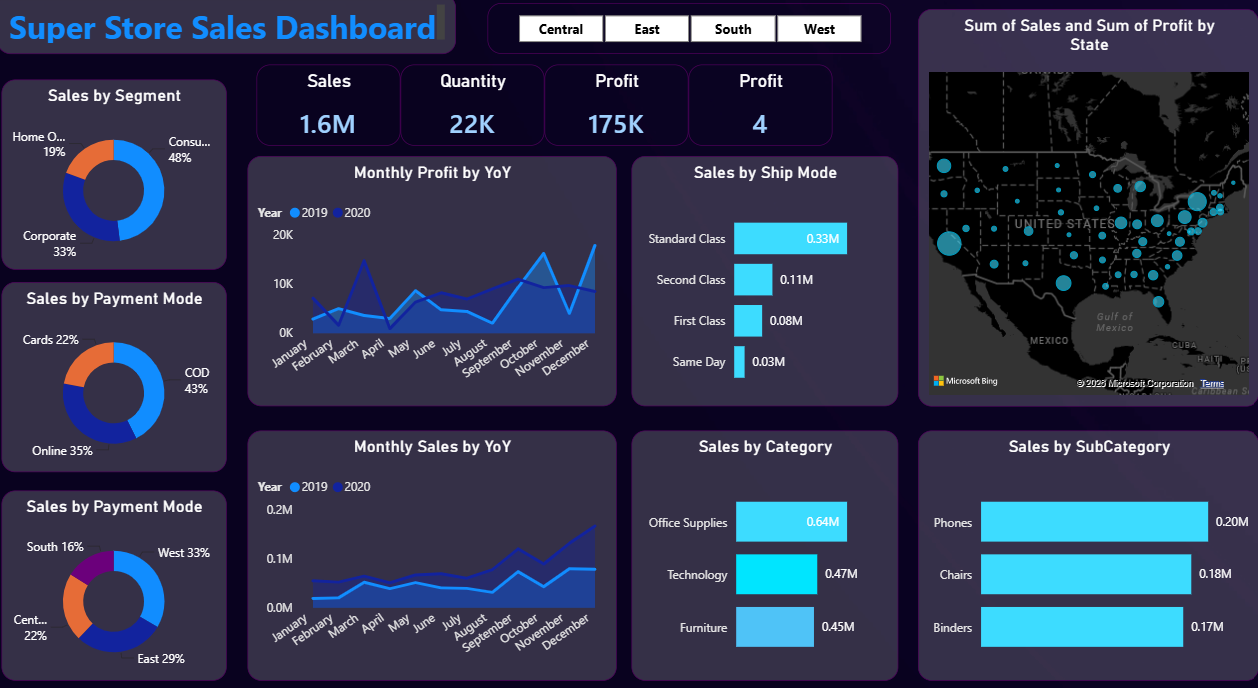

What the dashboard file says about the page in this screenshot:
{"tool":"powerbi","page":{"name":"Dashboard","canvas":[1280,720],"ordinal":0},"visuals":[{"type":"clusteredBarChart","title":"Sales by SubCategory","fields":{"Category":["SuperStore Sales DataSet.Sub-Category"],"Y":["Sum(SuperStore Sales DataSet.Sales)"]},"box":[929.7,440.6,345.2,252.9],"z":0},{"type":"clusteredBarChart","title":"Sales by Category","fields":{"Category":["SuperStore Sales DataSet.Category"],"Y":["Sum(SuperStore Sales DataSet.Sales)"]},"box":[640.5,440.6,269.5,252.9],"z":1000},{"type":"map","fields":{"Category":["SuperStore Sales DataSet.State"],"Size":["Sum(SuperStore Sales DataSet.Sales)"]},"box":[929.7,15.1,345.2,401.3],"z":2000},{"type":"slicer","fields":{"Values":["SuperStore Sales DataSet.Region"]},"box":[495.1,9.1,407.3,51.5],"z":3000},{"type":"clusteredBarChart","title":"Sales by Ship Mode","fields":{"Category":["SuperStore Sales DataSet.Ship Mode"],"Y":["Sum(SuperStore Sales DataSet.Sales)"]},"box":[640.5,163.5,269.5,252.9],"z":4000},{"type":"areaChart","title":"Monthly Profit by YoY","fields":{"Category":["SuperStore Sales DataSet.Order Date.Variation.Date Hierarchy.Month","SuperStore Sales DataSet.Order Date.Variation.Date Hierarchy.Day"],"Series":["SuperStore Sales DataSet.Order Date.Variation.Date Hierarchy.Year"],"Y":["Sum(SuperStore Sales DataSet.Profit)"]},"box":[252.9,163.5,372.5,252.9],"z":5000},{"type":"textbox","box":[0,0,463.3,60.6],"z":6000},{"type":"cardVisual","title":"Sales","fields":{"Data":["Sum(SuperStore Sales DataSet.Sales)"]},"box":[262,71.2,145.4,81.8],"z":7000,"group":"g1"},{"type":"areaChart","title":"Monthly Sales by YoY","fields":{"Category":["SuperStore Sales DataSet.Order Date.Variation.Date Hierarchy.Month","SuperStore Sales DataSet.Order Date.Variation.Date Hierarchy.Day"],"Series":["SuperStore Sales DataSet.Order Date.Variation.Date Hierarchy.Year"],"Y":["Sum(SuperStore Sales DataSet.Sales)"]},"box":[252.9,440.6,372.5,252.9],"z":7000},{"type":"donutChart","title":"Sales by Segment","fields":{"Category":["SuperStore Sales DataSet.Segment"],"Y":["Sum(SuperStore Sales DataSet.Sales)"]},"box":[4.5,86.3,227.1,192.3],"z":8000},{"type":"cardVisual","title":"Quantity","fields":{"Data":["Sum(SuperStore Sales DataSet.Quantity)"]},"box":[407.4,71.2,145.4,81.8],"z":9000,"group":"g1"},{"type":"donutChart","title":"Sales by Payment Mode","fields":{"Category":["SuperStore Sales DataSet.Payment Mode"],"Y":["Sum(SuperStore Sales DataSet.Sales)"]},"box":[4.5,290.7,227.1,192.3],"z":9000},{"type":"group","id":"g1","title":"Group 1","box":[262,71.2,581.5,81.8],"z":10000},{"type":"cardVisual","title":"Profit","fields":{"Data":["Sum(SuperStore Sales DataSet.Profit)"]},"box":[552.7,71.2,145.4,81.8],"z":10000,"group":"g1"},{"type":"cardVisual","title":"Profit","fields":{"Data":["Avg(SuperStore Sales DataSet.AvgDelivery)"]},"box":[698.1,71.2,145.4,81.8],"z":11000,"group":"g1"},{"type":"donutChart","title":"Sales by Payment Mode","fields":{"Category":["SuperStore Sales DataSet.Region"],"Y":["Sum(SuperStore Sales DataSet.Sales)"]},"box":[4.5,501.2,227.1,192.3],"z":11000}]}

Visuals, with their boxes in screenshot pixels (x1, y1, x2, y2), scaled from the page's 1280x720 canvas onto the 1258x688 screenshot:
"Sales by SubCategory" clusteredBarChart: [914, 421, 1253, 663]
"Sales by Category" clusteredBarChart: [629, 421, 894, 663]
map - SuperStore Sales DataSet.State x Sum(SuperStore Sales DataSet.Sales): [914, 14, 1253, 398]
slicer - SuperStore Sales DataSet.Region: [487, 9, 887, 58]
"Sales by Ship Mode" clusteredBarChart: [629, 156, 894, 398]
"Monthly Profit by YoY" areaChart: [249, 156, 615, 398]
textbox: [0, 0, 455, 58]
"Sales" cardVisual: [257, 68, 400, 146]
"Monthly Sales by YoY" areaChart: [249, 421, 615, 663]
"Sales by Segment" donutChart: [4, 82, 228, 266]
"Quantity" cardVisual: [400, 68, 543, 146]
"Sales by Payment Mode" donutChart: [4, 278, 228, 462]
"Group 1" group: [257, 68, 829, 146]
"Profit" cardVisual: [543, 68, 686, 146]
"Profit" cardVisual: [686, 68, 829, 146]
"Sales by Payment Mode" donutChart: [4, 479, 228, 663]
